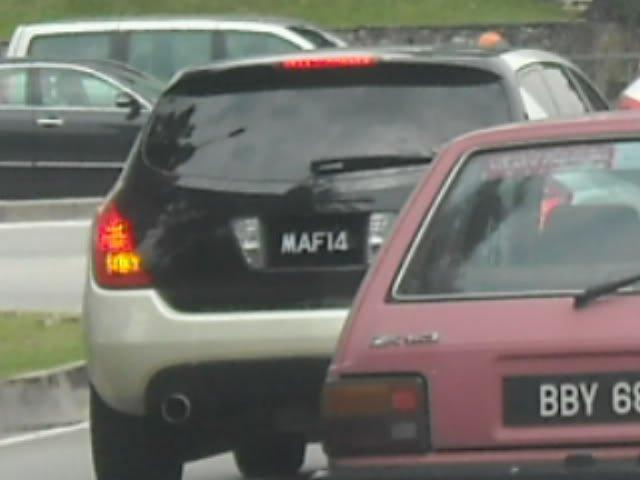License_Plate: (513, 376, 640, 436), (263, 229, 371, 261)
car: (90, 55, 638, 435), (314, 117, 640, 480)
